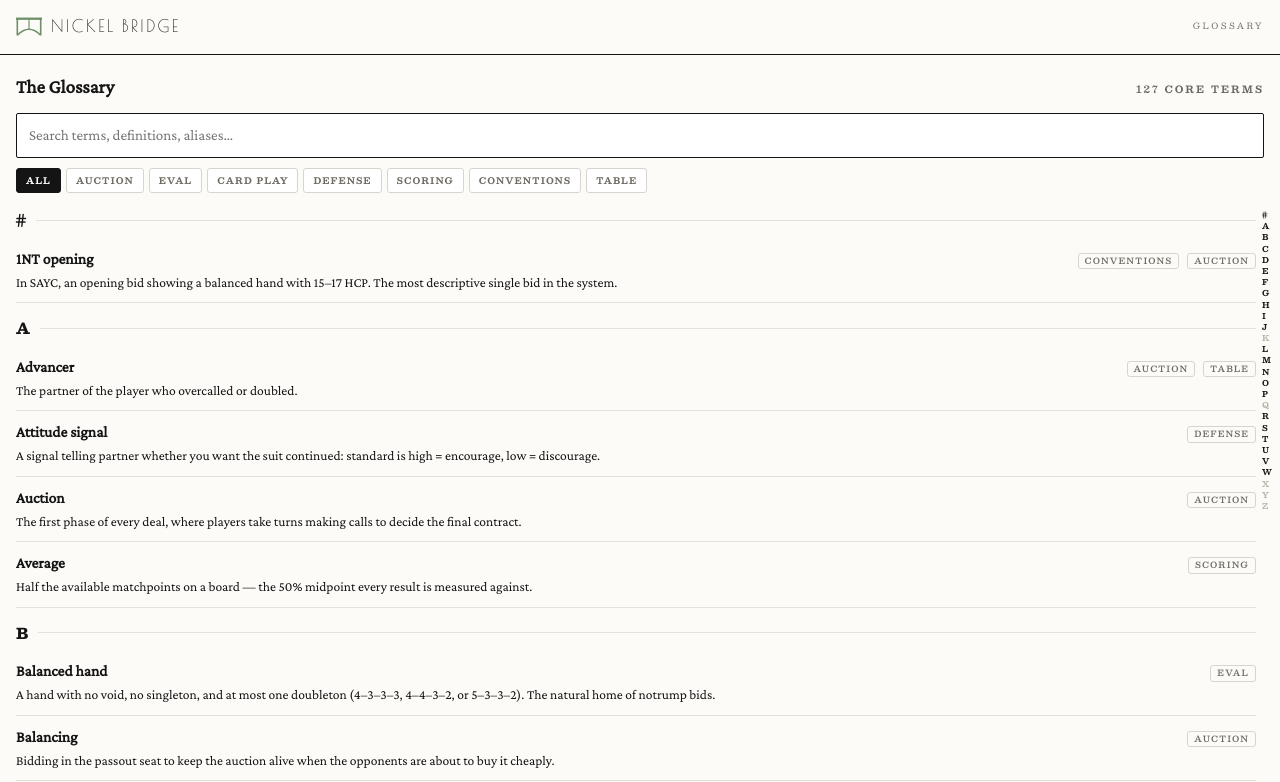
Scenario: Glossary page › the letter scrubber disables letters absent from the current filter
Expected: the button "F" is enabled, [1258,276,1276,287]
Expected: the button "X" is disabled, [1258,478,1276,489]
Type "stayman" into the search field. click: (640, 135)
box: [16,113,1264,158]
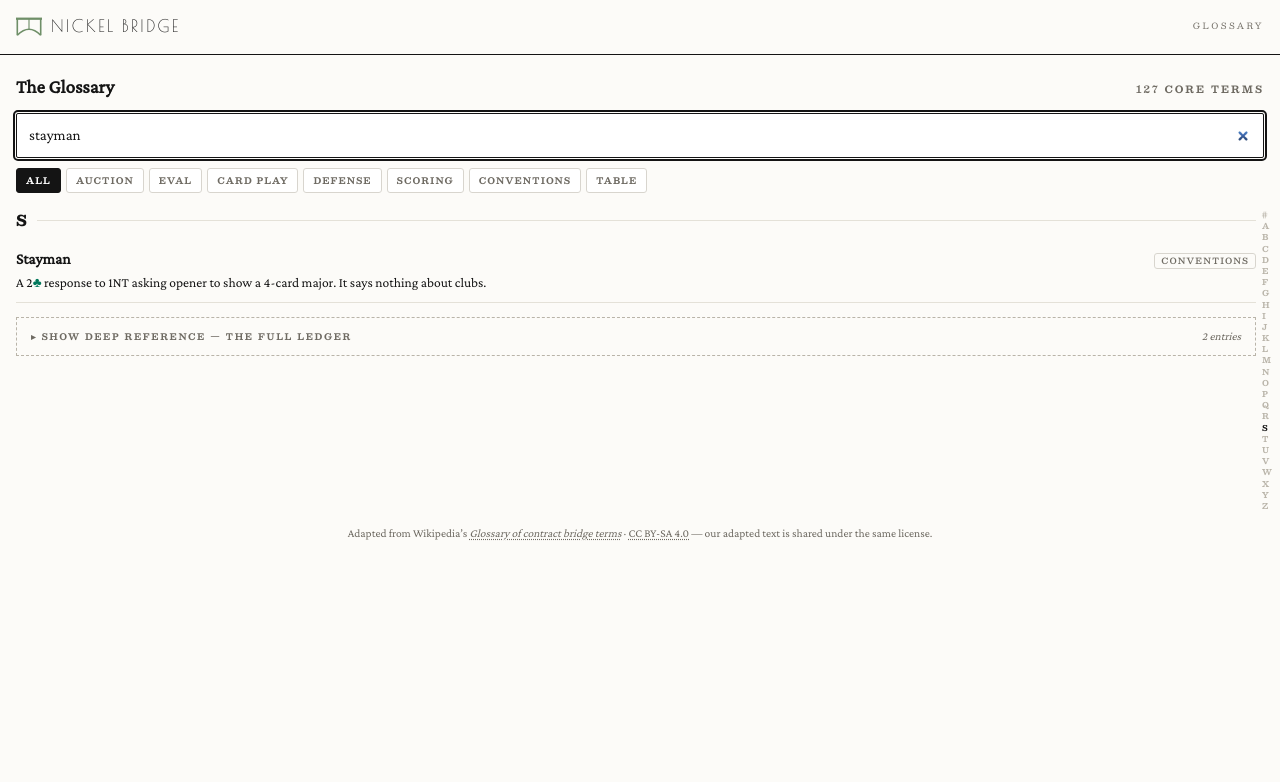
Expected: the button "S" is enabled, [1258,422,1276,433]
Now the button "F" is disabled, box [1258,276,1276,287]
